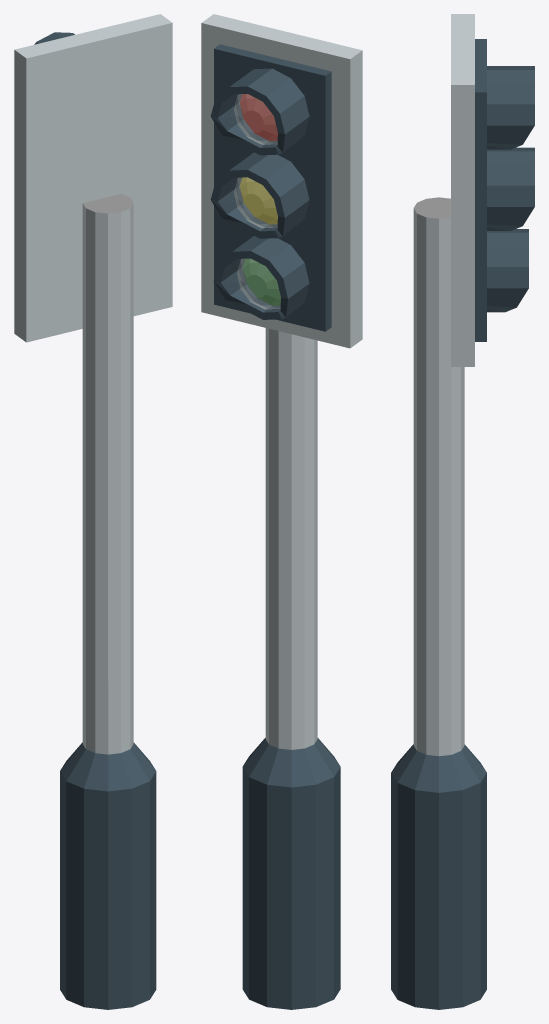
File: TLightW.glb
3 views of the same model, side by side, from view 1: azimuth 30°, elevation 25°; view 2: azimuth 150°, elevation 25°; view 3: azimuth 270°, elevation 25° (orthographic). The views are drawn at different scales.
Parts seen in each view (by area): view 1: Node; view 2: Node; view 3: Node.
Boxes of the visible parts, x1,y1,x2,y2 form: Node: (14,14,172,1009); Node: (201,14,362,1009); Node: (391,14,534,1009).
Size of the model in its own units: 0.28 by 1.73 by 0.24.
